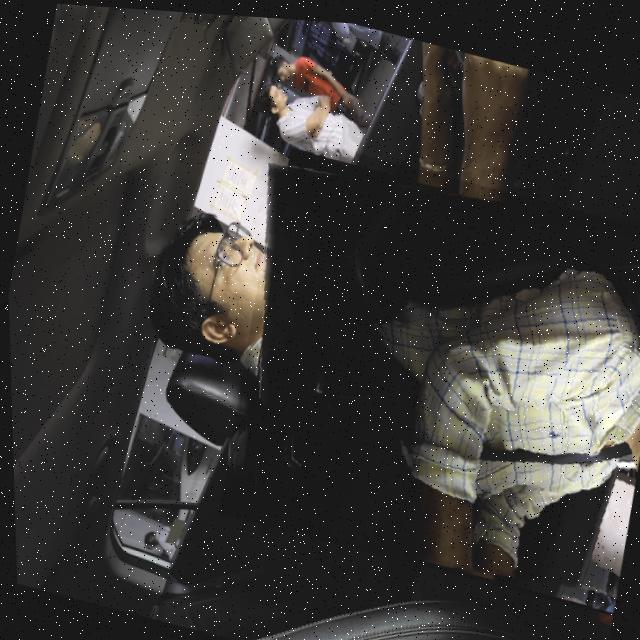seatbelt: (206, 126, 640, 610)
